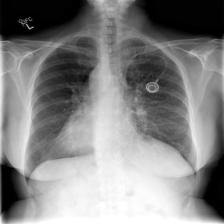normal: (21, 30, 203, 190)
